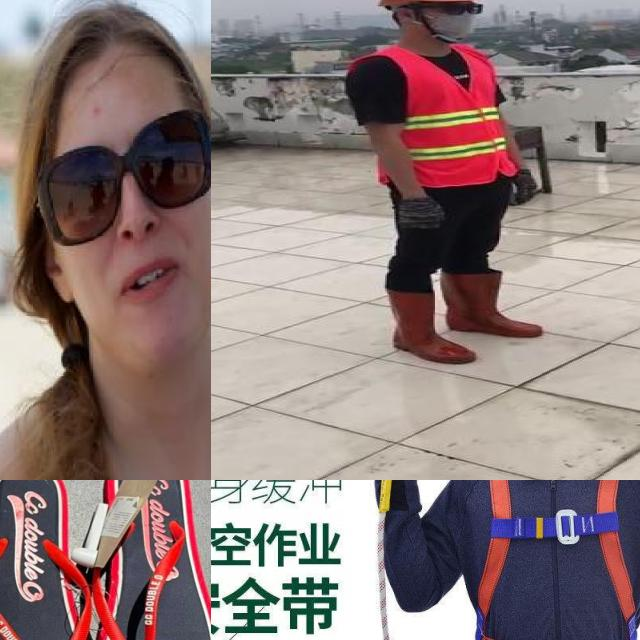Harness: (464, 480, 640, 640)
Sandals: (0, 480, 211, 640)
boots: (371, 286, 476, 366), (441, 271, 568, 336)
face_mask: (417, 0, 486, 39)
face_nomask: (36, 129, 211, 315)
glasses: (31, 114, 211, 232), (419, 0, 490, 19)
hand_glove: (389, 194, 446, 232), (504, 171, 546, 209)
head_nohelmet: (17, 0, 201, 94)
person: (0, 0, 211, 480), (339, 0, 551, 368)
vest: (348, 42, 511, 187)
